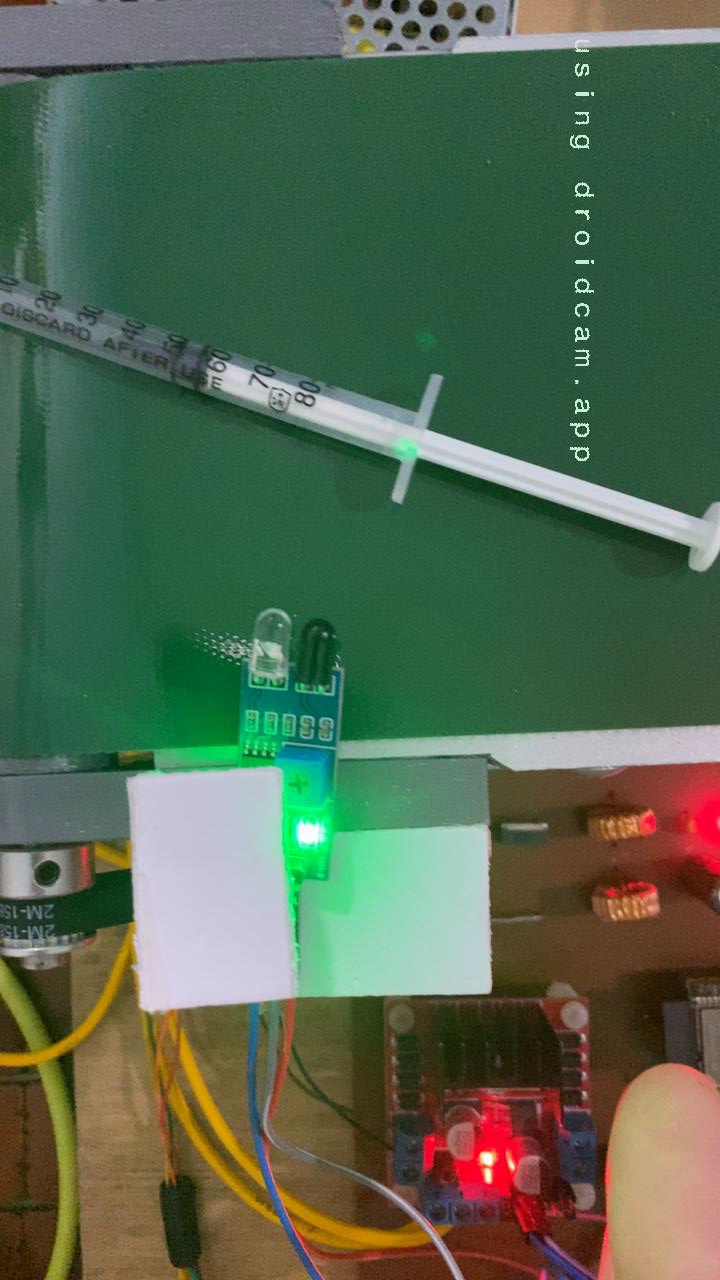syringe: (117, 335, 720, 580)
